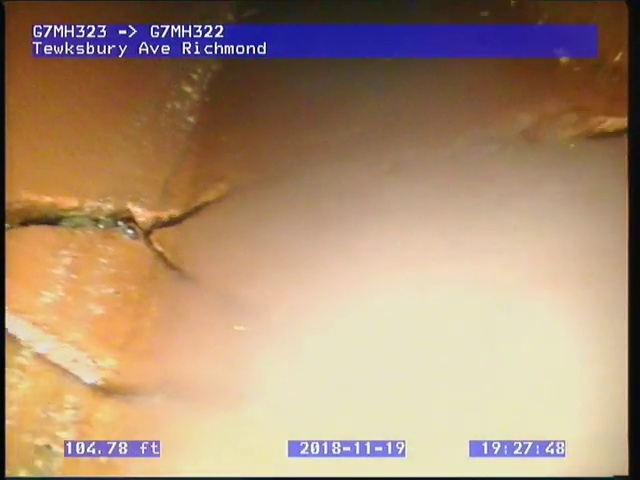crack: (6, 178, 240, 283), (579, 117, 628, 148)
